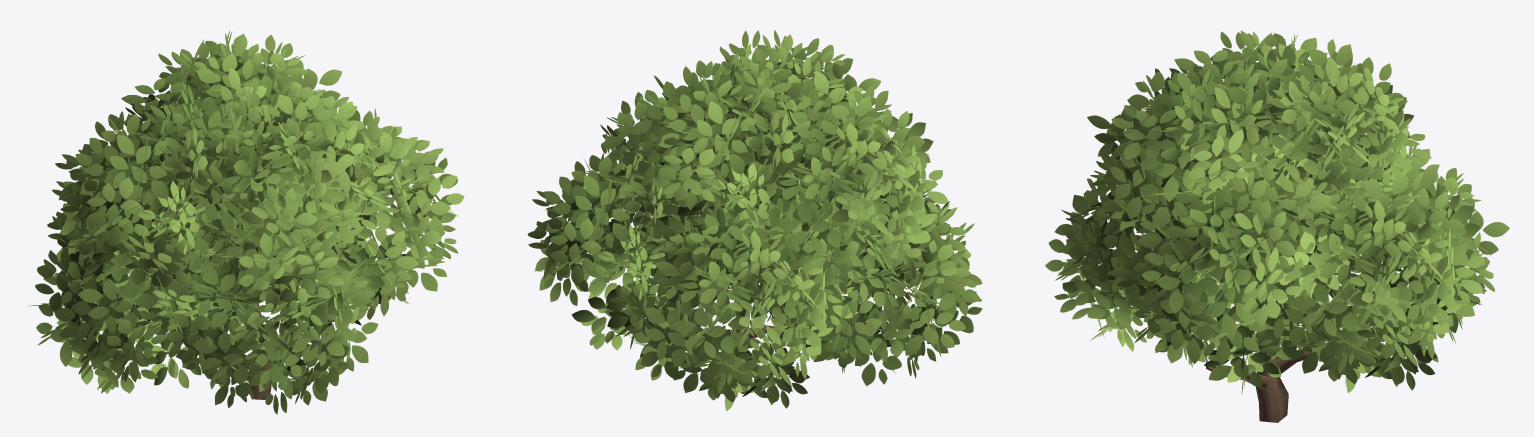
File: shrub.glb
3 views of the same model, side by side, from view 1: azimuth 30°, elevation 25°; view 2: azimuth 150°, elevation 25°; view 3: azimuth 270°, elevation 25° (orthographic). The views are drawn at different scales.
Visible parts, largest first — view 1: Leaves; view 2: Leaves; view 3: Leaves, Trunk.
Boxes of the visible parts, box(x1,y1,x2,y2) form: Leaves: box(27, 30, 464, 414); Leaves: box(527, 30, 982, 410); Leaves: box(1045, 30, 1509, 394); Trunk: box(1206, 344, 1328, 422).
Size of the model in its own units: 1 by 0.8005 by 0.96.
Materials: 2 (2 with a texture image).
